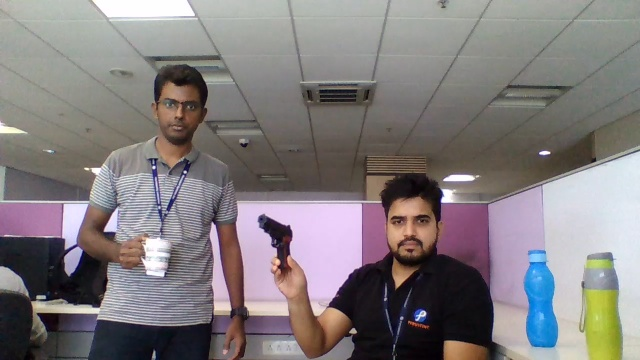gun: (256, 212, 294, 256)
